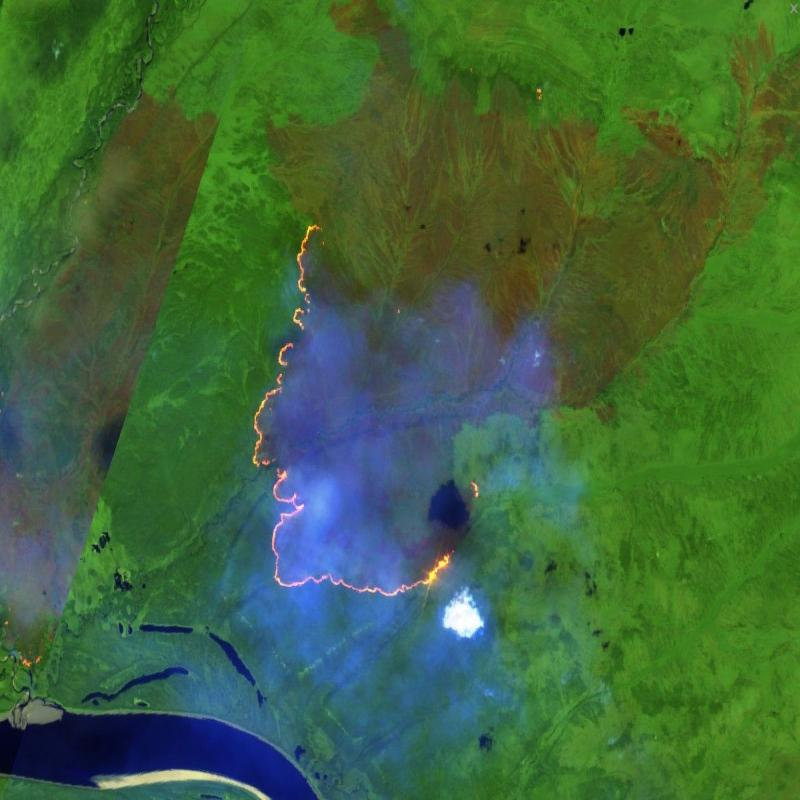fire: (245, 213, 490, 612)
